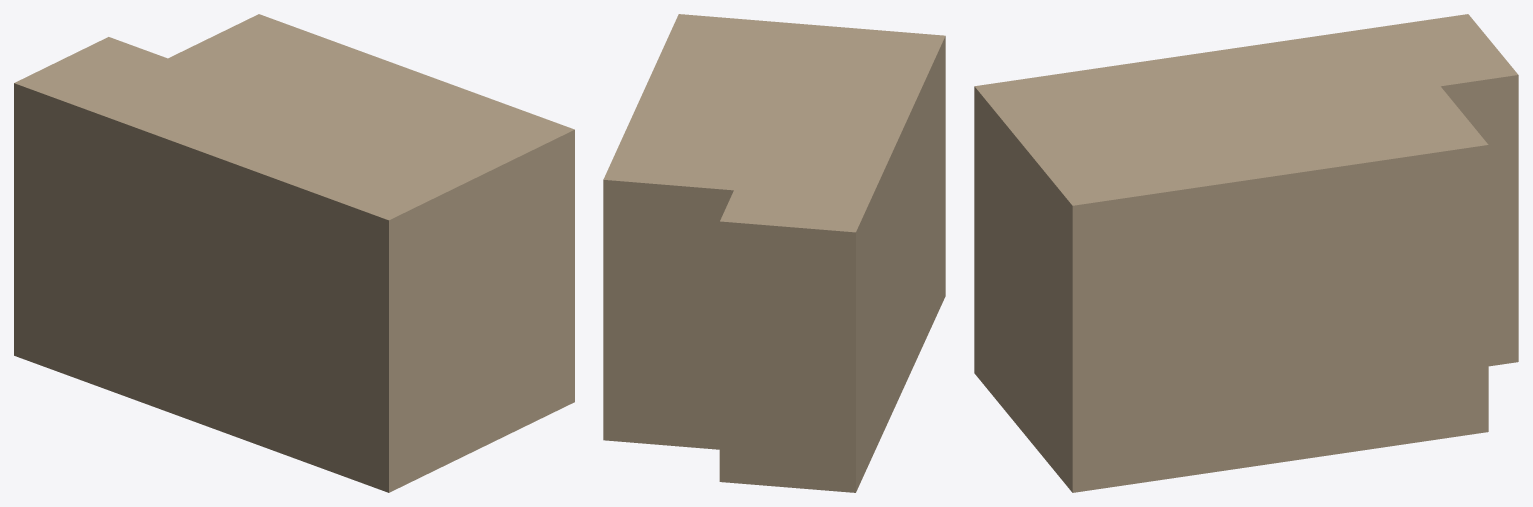
Rendered from bld_106456068.dae.
3 renders of one model, left to right at view 1: azimuth 30°, elevation 25°; view 2: azimuth 150°, elevation 25°; view 3: azimuth 270°, elevation 25°, orthographic. The views are drawn at different scales.
Parts seen in each view (by area): view 1: bld_106456068; view 2: bld_106456068; view 3: bld_106456068.
Part boxes in pixels (box(x1,y1,x2,y2)): bld_106456068: box(14, 14, 574, 492); bld_106456068: box(603, 14, 945, 492); bld_106456068: box(974, 14, 1518, 492).
Size of the model in its own units: 11.46 by 13.74 by 8.
